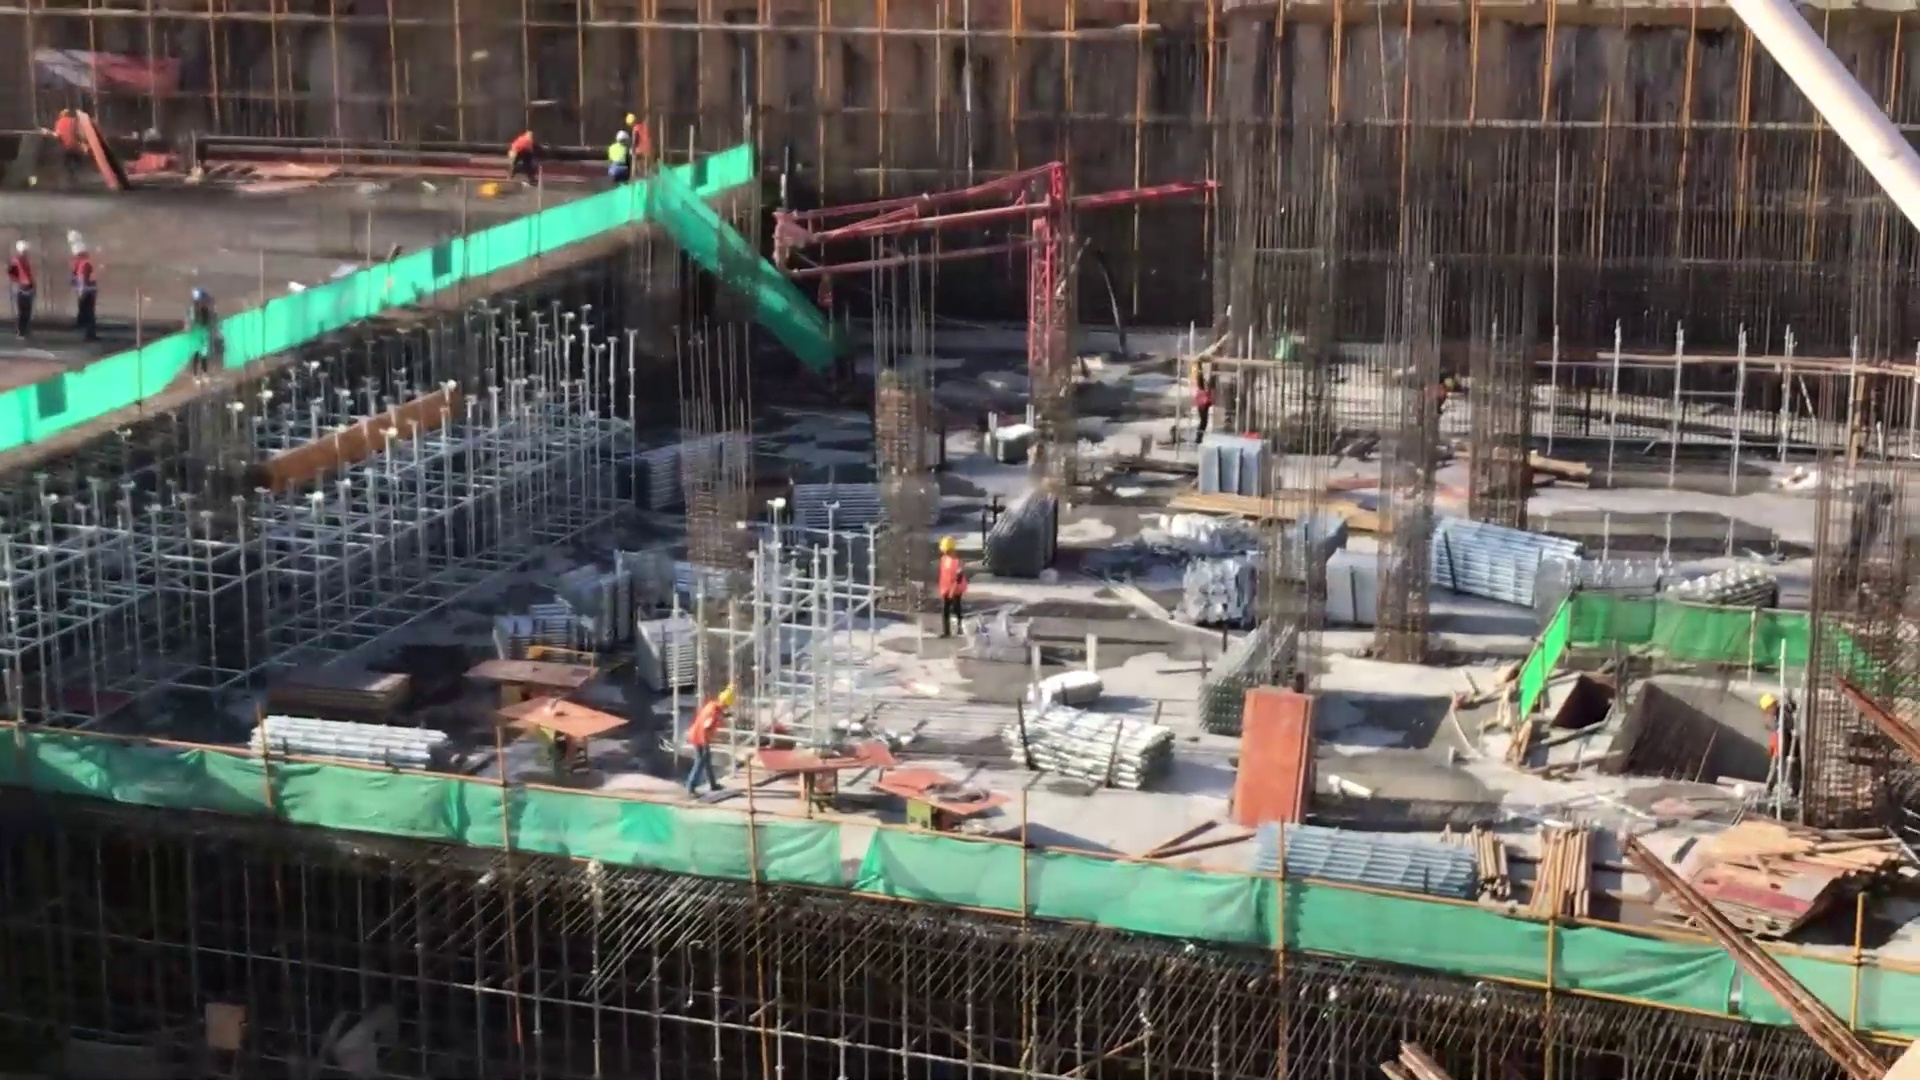board: (752, 739, 1021, 837), (1229, 676, 1317, 837), (470, 653, 623, 744), (1692, 871, 1812, 945)
helmet: (1748, 688, 1782, 718), (934, 530, 960, 557), (183, 287, 217, 307), (68, 234, 93, 257), (1181, 358, 1206, 381), (10, 232, 29, 258), (622, 111, 643, 131), (720, 682, 740, 700), (613, 130, 633, 148), (63, 221, 77, 239)
person: (670, 676, 735, 796), (1755, 686, 1807, 803), (930, 531, 978, 639), (2, 236, 42, 343), (64, 221, 93, 343), (1186, 362, 1224, 444), (501, 126, 544, 180), (622, 110, 656, 171), (598, 129, 632, 183), (183, 283, 215, 332)
scaffold: (1245, 804, 1474, 898), (226, 702, 463, 781), (1004, 689, 1167, 790), (1433, 529, 1577, 616), (623, 431, 707, 519), (786, 479, 885, 538), (1181, 549, 1252, 631), (1201, 430, 1282, 490)
vest: (674, 698, 729, 757), (937, 557, 969, 602), (6, 259, 32, 298), (73, 259, 94, 293), (607, 141, 627, 168), (508, 136, 532, 157)
wood: (1710, 801, 1903, 874), (1538, 818, 1589, 933), (1464, 816, 1515, 909)
